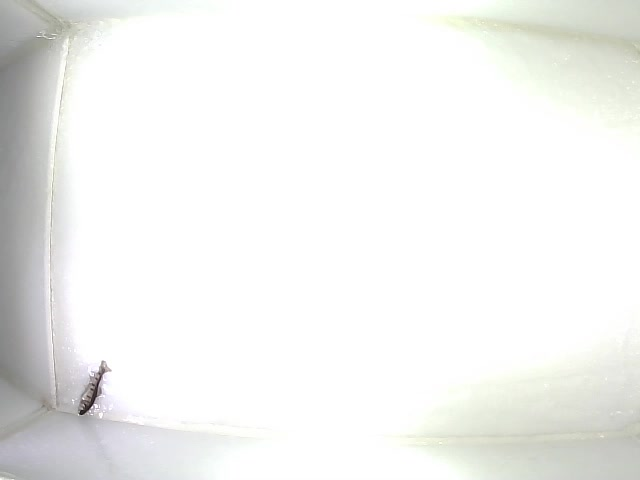fish: (77, 358, 113, 416)
